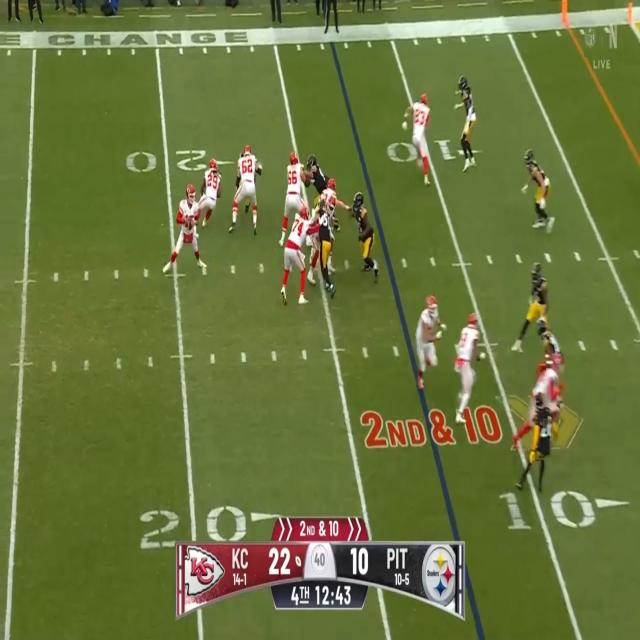Ball: (186, 214, 195, 232)
